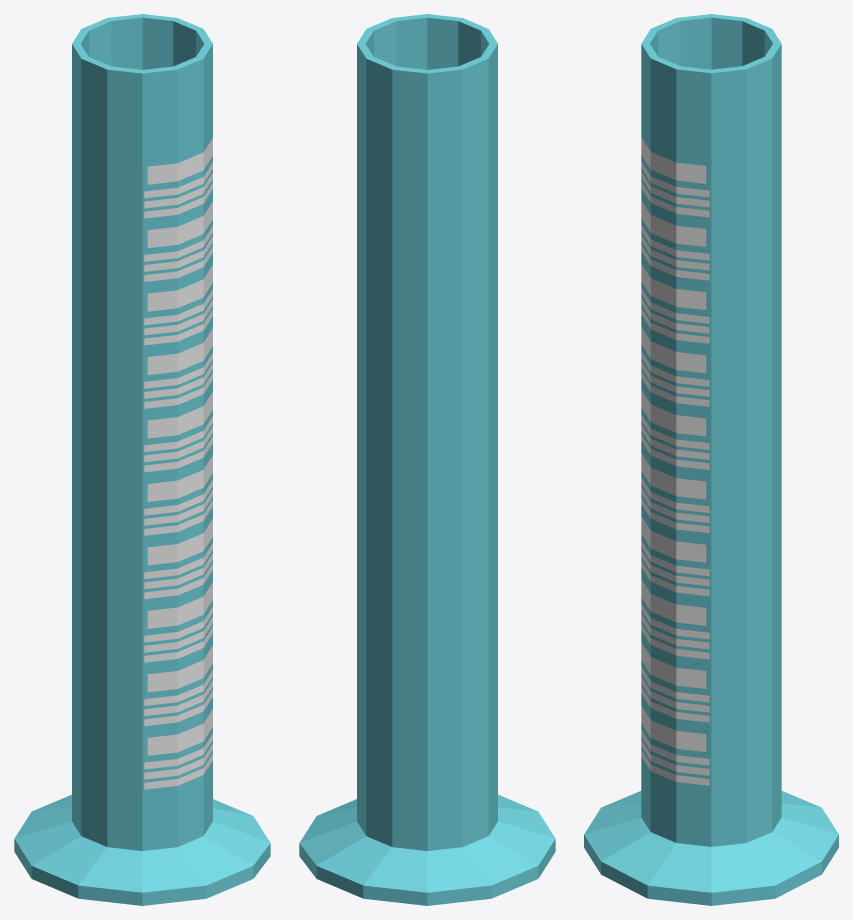
File: SM_Medicine_Glass_A.glb
3 views of the same model, side by side, from view 1: azimuth 30°, elevation 25°; view 2: azimuth 150°, elevation 25°; view 3: azimuth 270°, elevation 25° (orthographic).
Parts seen in each view (by area): view 1: SM_Medicine_Glass_A; view 2: SM_Medicine_Glass_A; view 3: SM_Medicine_Glass_A.
Part boxes in pixels (x1,y1,x2,y2): SM_Medicine_Glass_A: (14, 14, 270, 905); SM_Medicine_Glass_A: (299, 14, 555, 905); SM_Medicine_Glass_A: (584, 14, 838, 905).
Bounding box in the file's own units: 0.0663 × 0.232 × 0.0663.
